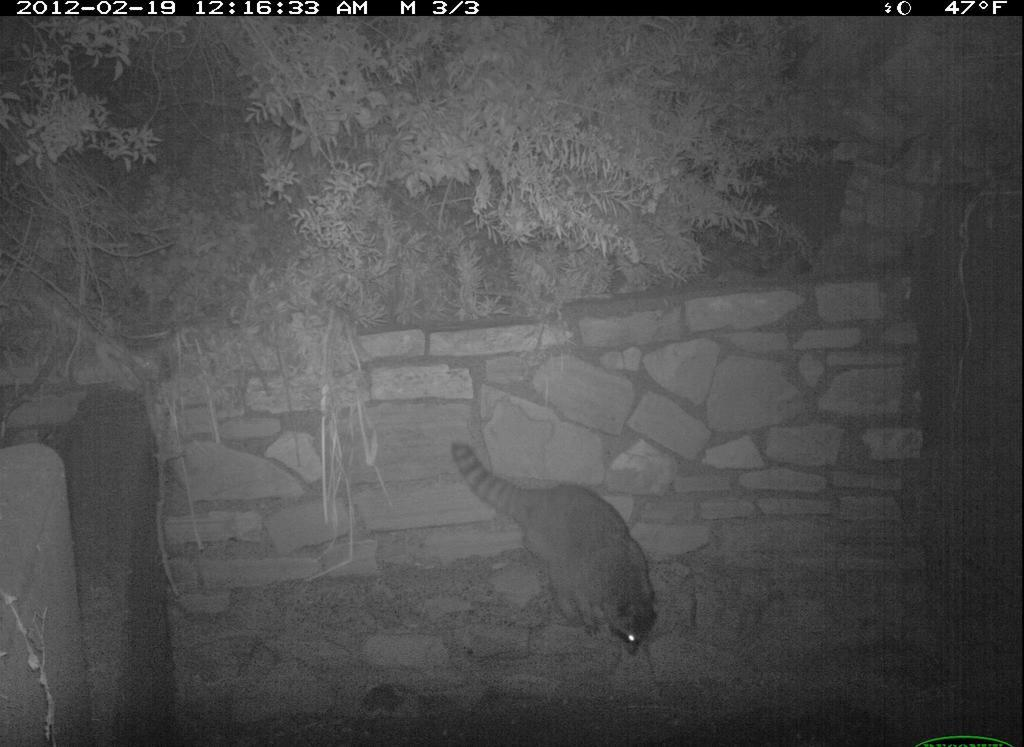raccoon: (417, 424, 721, 667)
